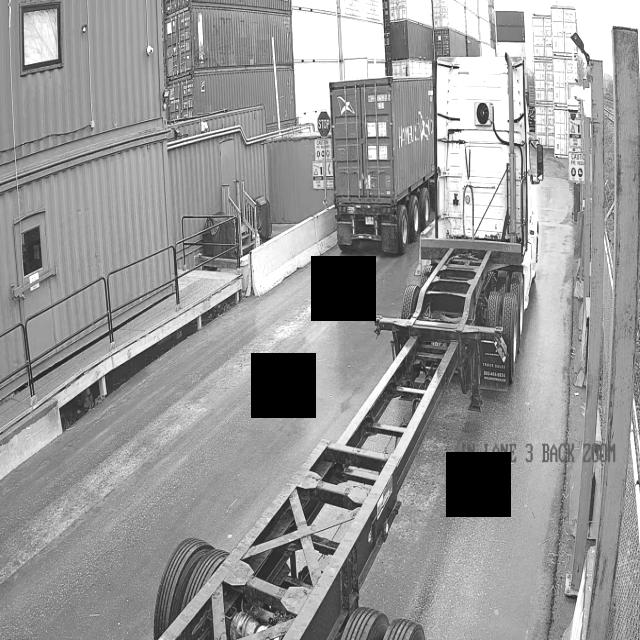truck_with_container: (330, 77, 435, 254)
truck_without_container: (153, 55, 543, 640)
